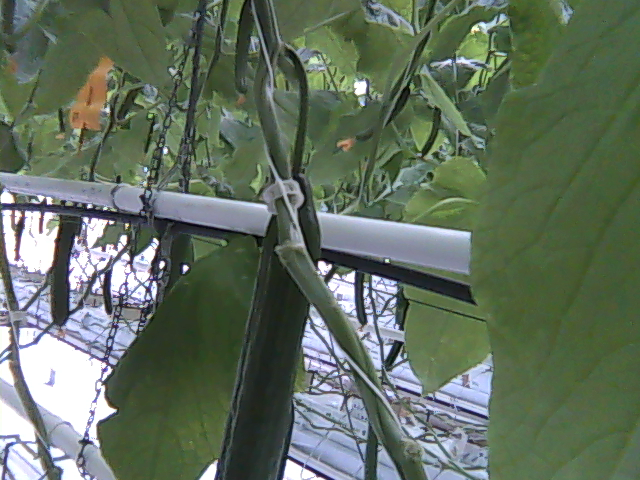concombre: (215, 161, 323, 480)
